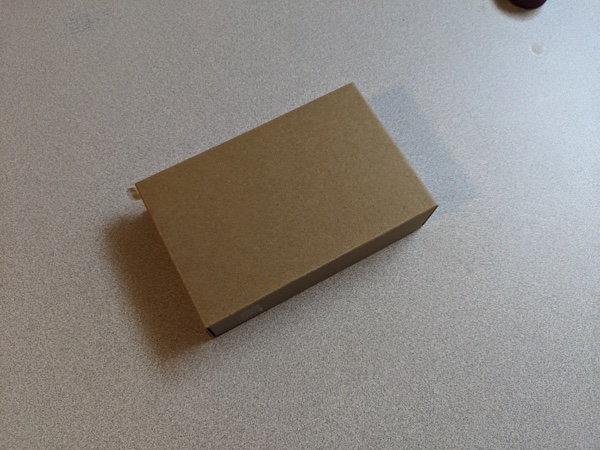cardboard: (106, 74, 473, 371)
